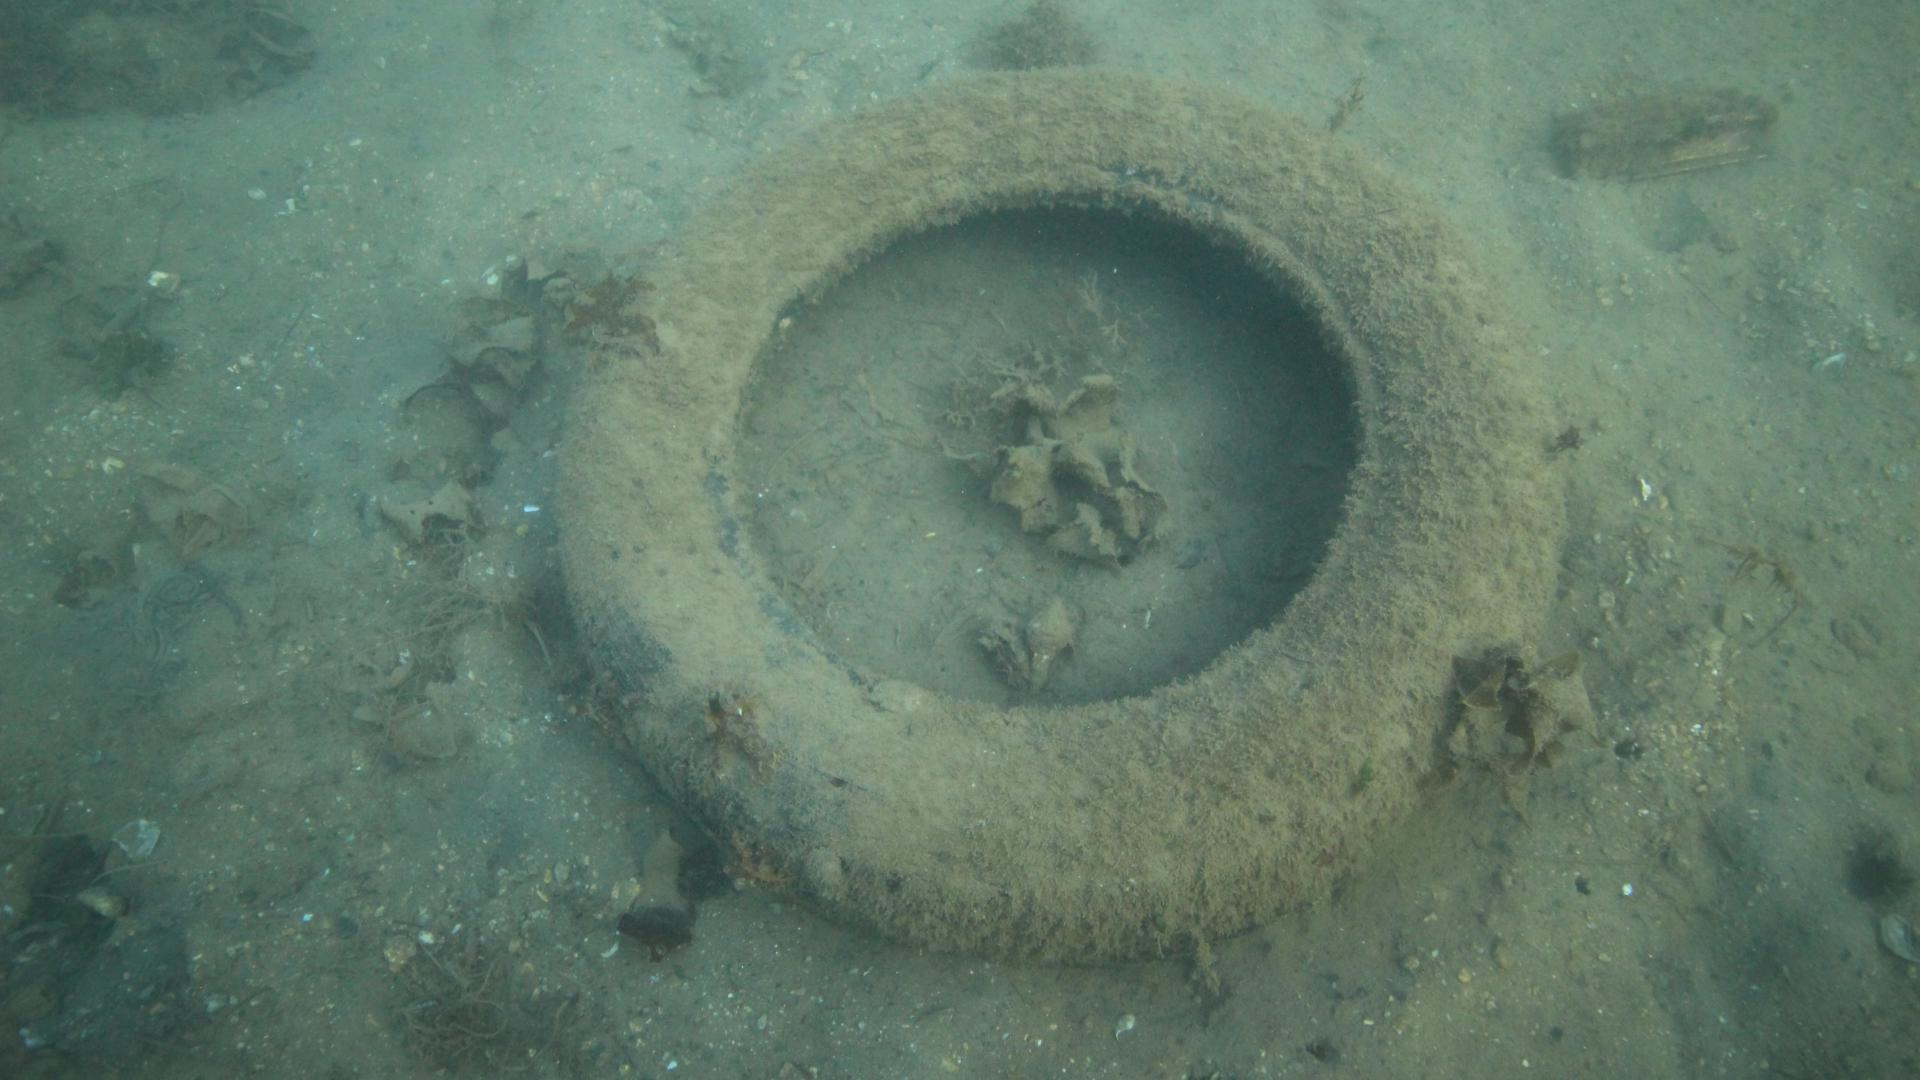tire: (551, 66, 1561, 965)
